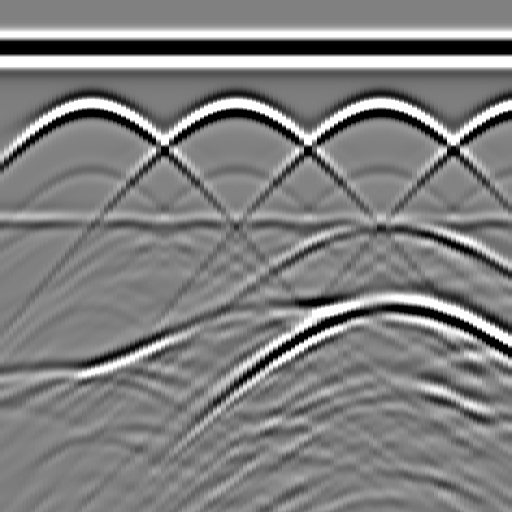grout_surface: (1, 207, 512, 237)
rebar: (69, 87, 109, 127), (214, 87, 254, 127), (358, 87, 398, 127), (502, 87, 512, 127)
rock_surface: (1, 302, 511, 407)
water_void: (359, 201, 419, 241)
